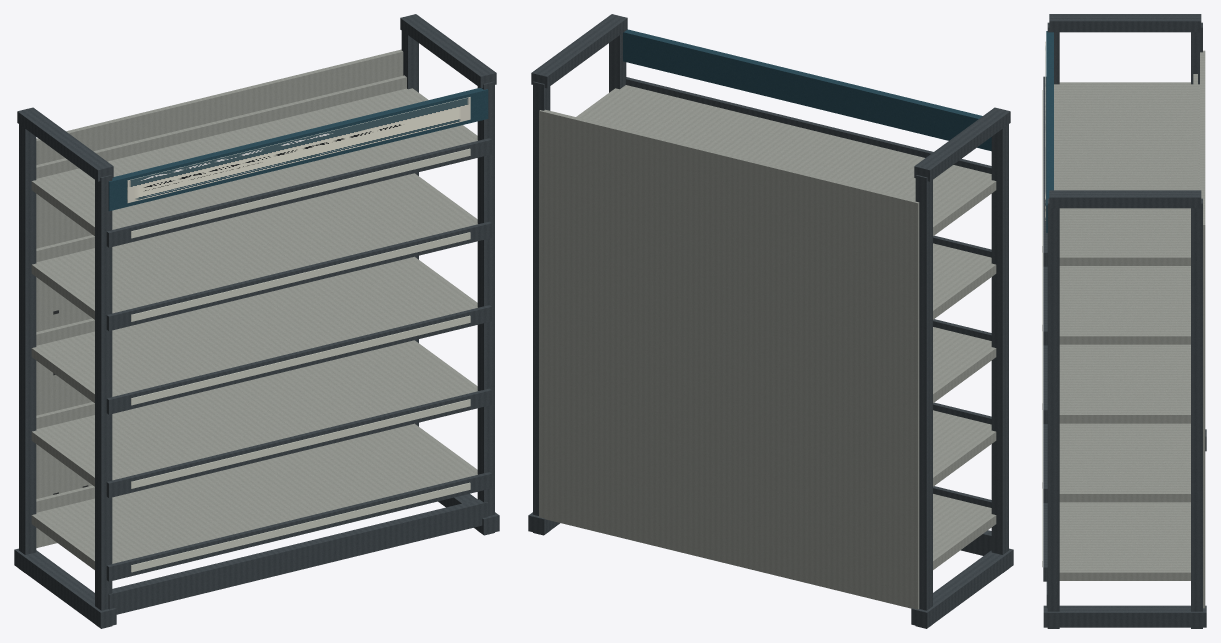
File: PZ_Market_Empty_Shelf_2m.glb
3 renders of one model, left to right at view 1: azimuth 30°, elevation 25°; view 2: azimuth 150°, elevation 25°; view 3: azimuth 270°, elevation 25°, orthographic. The views are drawn at different scales.
Visible parts, largest first — view 1: Shelf_02_SteelTray, Shelf_04_SteelTray, Shelf_01_SteelTray, Shelf_03_SteelTray, Rear_SolidPunchedBackPanel, Shelf_05_SteelTray, FootGuard, Headboard_SignPrint, L_Upright_Back, L_Upright_Front, R_Upright_Front, Headboard_SignPlate (+19 smaller); view 2: Rear_SolidPunchedBackPanel, Shelf_05_SteelTray, Headboard_SignPlate, L_Upright_Front, L_Upright_Back, Shelf_05_FrontEdgePriceRail, R_Upright_Back, Shelf_02_SteelTray, Shelf_01_SteelTray, Shelf_04_SteelTray, Shelf_03_SteelTray, L_FootRail (+3 smaller); view 3: Shelf_05_SteelTray, Shelf_03_SteelTray, Shelf_02_SteelTray, Shelf_01_SteelTray, Shelf_04_SteelTray, R_Upright_Front, R_Upright_Back, R_FootRail, L_EndCap, R_EndCap, Rear_SolidPunchedBackPanel, Headboard_SignPlate (+8 smaller).
Part boxes in pixels (x1=…): Shelf_02_SteelTray: x1=31, y1=340, x2=477, y2=486; Shelf_04_SteelTray: x1=31, y1=173, x2=477, y2=319; Shelf_01_SteelTray: x1=31, y1=423, x2=477, y2=569; Shelf_03_SteelTray: x1=31, y1=256, x2=477, y2=402; Rear_SolidPunchedBackPanel: x1=36, y1=49, x2=403, y2=547; Shelf_05_SteelTray: x1=31, y1=88, x2=477, y2=235; FootGuard: x1=108, y1=499, x2=488, y2=614; Headboard_SignPrint: x1=127, y1=97, x2=470, y2=202; L_Upright_Back: x1=19, y1=124, x2=36, y2=572; L_Upright_Front: x1=95, y1=175, x2=112, y2=628; R_Upright_Front: x1=477, y1=81, x2=494, y2=535; Headboard_SignPlate: x1=108, y1=88, x2=488, y2=211; Rear_SolidPunchedBackPanel: x1=539, y1=109, x2=919, y2=609; Shelf_05_SteelTray: x1=576, y1=85, x2=996, y2=235; Headboard_SignPlate: x1=623, y1=29, x2=991, y2=151; L_Upright_Front: x1=991, y1=124, x2=1008, y2=572; L_Upright_Back: x1=915, y1=175, x2=932, y2=628; Shelf_05_FrontEdgePriceRail: x1=626, y1=77, x2=991, y2=173; R_Upright_Back: x1=533, y1=81, x2=550, y2=535; Shelf_02_SteelTray: x1=933, y1=410, x2=996, y2=486; Shelf_01_SteelTray: x1=933, y1=494, x2=996, y2=569; Shelf_04_SteelTray: x1=933, y1=243, x2=996, y2=319; Shelf_03_SteelTray: x1=933, y1=327, x2=996, y2=402; L_FootRail: x1=911, y1=548, x2=1013, y2=628; Shelf_05_SteelTray: x1=1054, y1=82, x2=1199, y2=265; Shelf_03_SteelTray: x1=1059, y1=344, x2=1190, y2=423; Shelf_02_SteelTray: x1=1059, y1=423, x2=1190, y2=502; Shelf_01_SteelTray: x1=1059, y1=502, x2=1190, y2=580; Shelf_04_SteelTray: x1=1059, y1=266, x2=1190, y2=344; R_Upright_Front: x1=1047, y1=198, x2=1059, y2=628; R_Upright_Back: x1=1191, y1=198, x2=1202, y2=628; R_FootRail: x1=1043, y1=605, x2=1206, y2=627; L_EndCap: x1=1049, y1=14, x2=1201, y2=32; R_EndCap: x1=1049, y1=190, x2=1201, y2=208; Rear_SolidPunchedBackPanel: x1=1200, y1=50, x2=1205, y2=608; Headboard_SignPlate: x1=1046, y1=31, x2=1053, y2=232.
Size of the model in its own units: 2 by 2.2 by 0.757.
6 materials, 6 textured.
